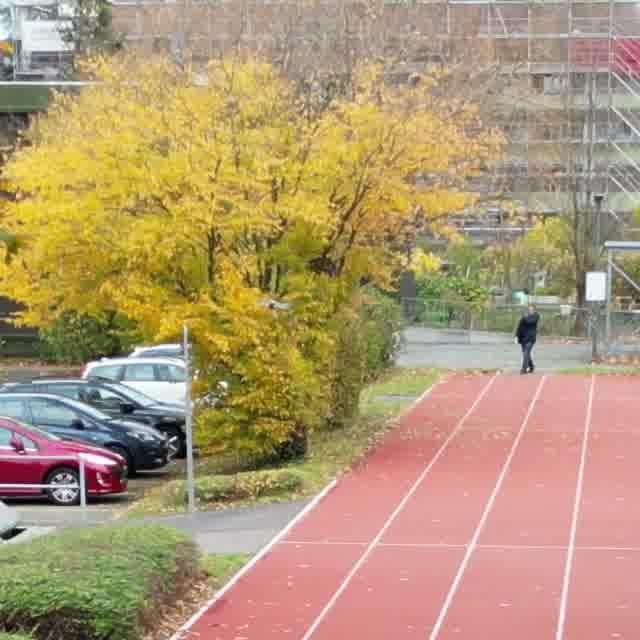Drohne: (260, 300, 290, 310)
